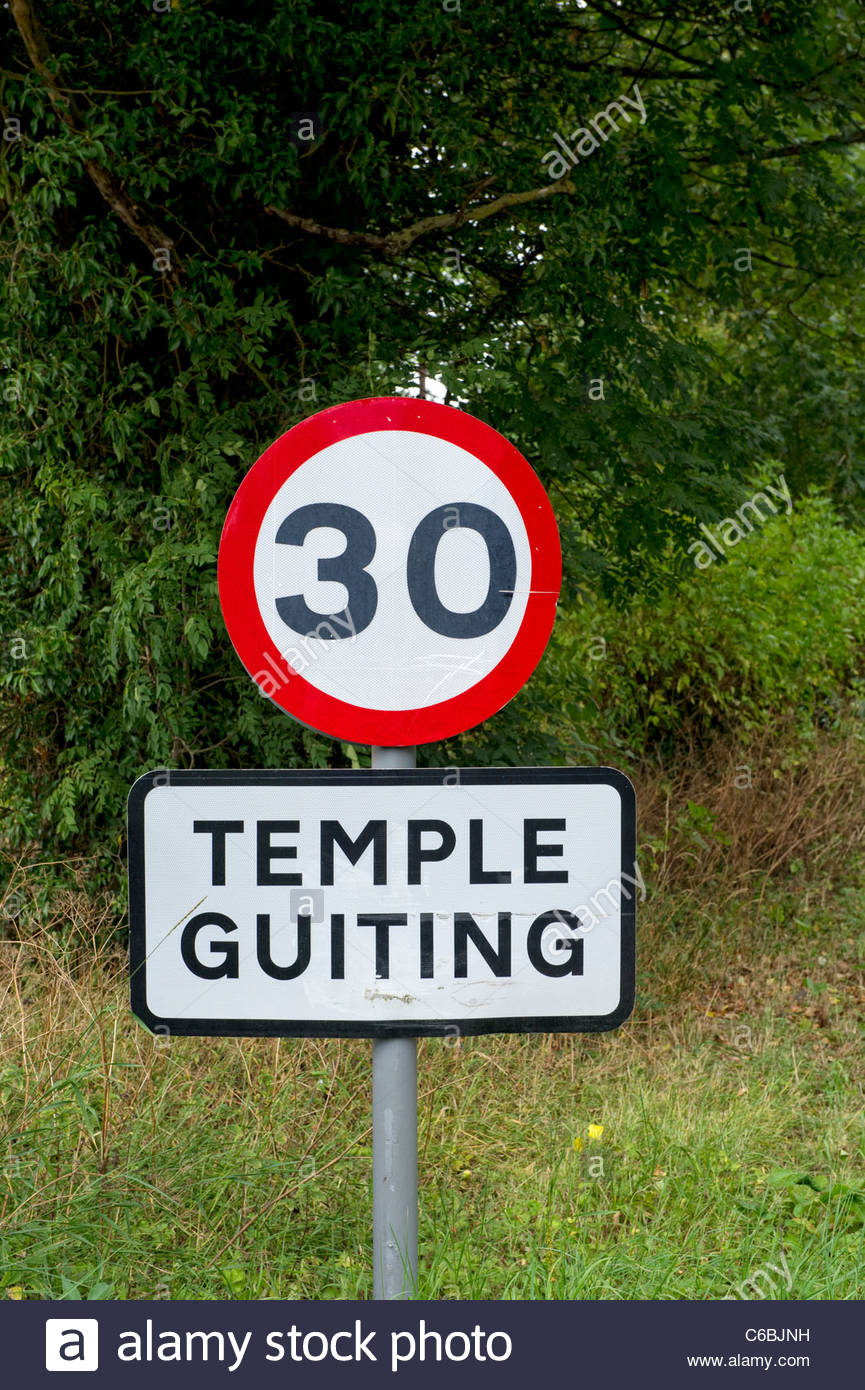Speed_limit_30km: (214, 399, 564, 739)
